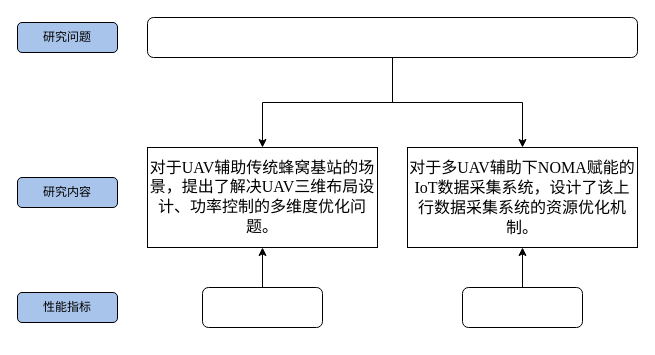
Some shapes in this 655 by 355 pixel diagram are drawn without their labels. The shapes that lost their labels are listed below. From the top down, each one's centre as x and y in pixels, then its label:
At (392,37): "无人机辅助下 NOMA 使能的 IoT 数据采集系统中资源优化问题".
At (262,307): "系统总能量效率".
At (522,307): "比例公平和速率".
